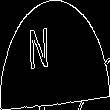N_S: (44, 29, 66, 81)
